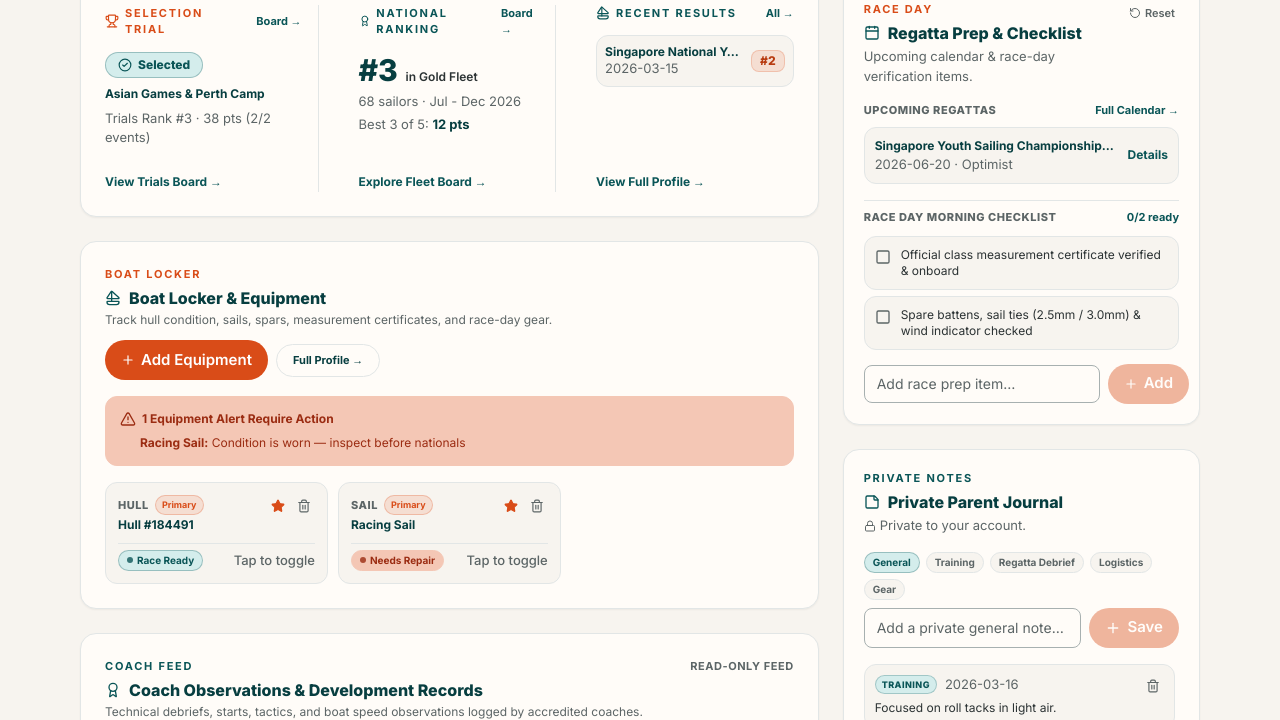
ParentDashboard › supports in-place equipment management and opens preset modal in Card B
This screenshot has width=1280, height=720.
(page scrolled)
Expected: the heading "Boat Locker & Equipment" is shown, [105,288,326,308]
Expected: the text "Hull #184491" is shown, [118,517,194,532]
Click the button "Add Equipment" at {"x": 186, "y": 360}, box [105,340,268,380]
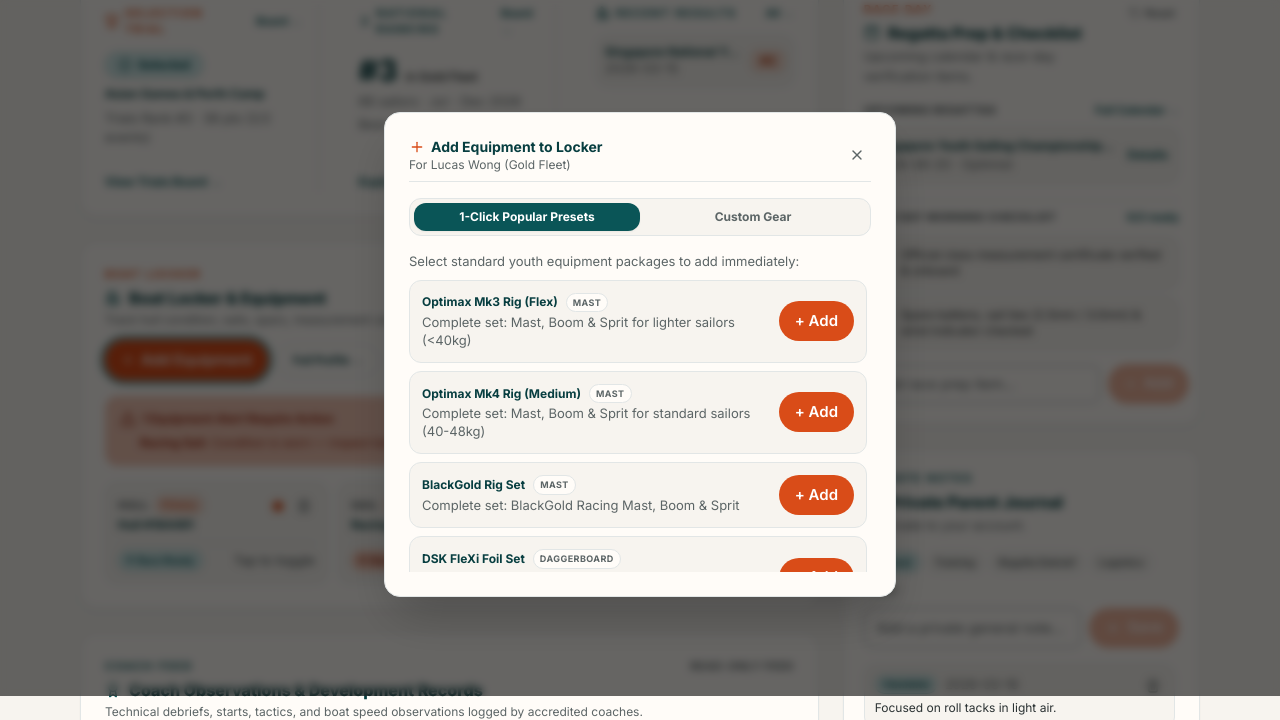
Result: the heading "Add Equipment to Locker" is shown at [409,137,602,157]
Result: the button "1-Click Popular Presets" is shown at [414,203,640,231]
Result: the text "Optimax Mk3 Rig (Flex)" is shown at [422,294,558,310]
Switch to custom tab
Click the button "Custom Gear" at {"x": 753, "y": 217}, box [640,203,866,231]
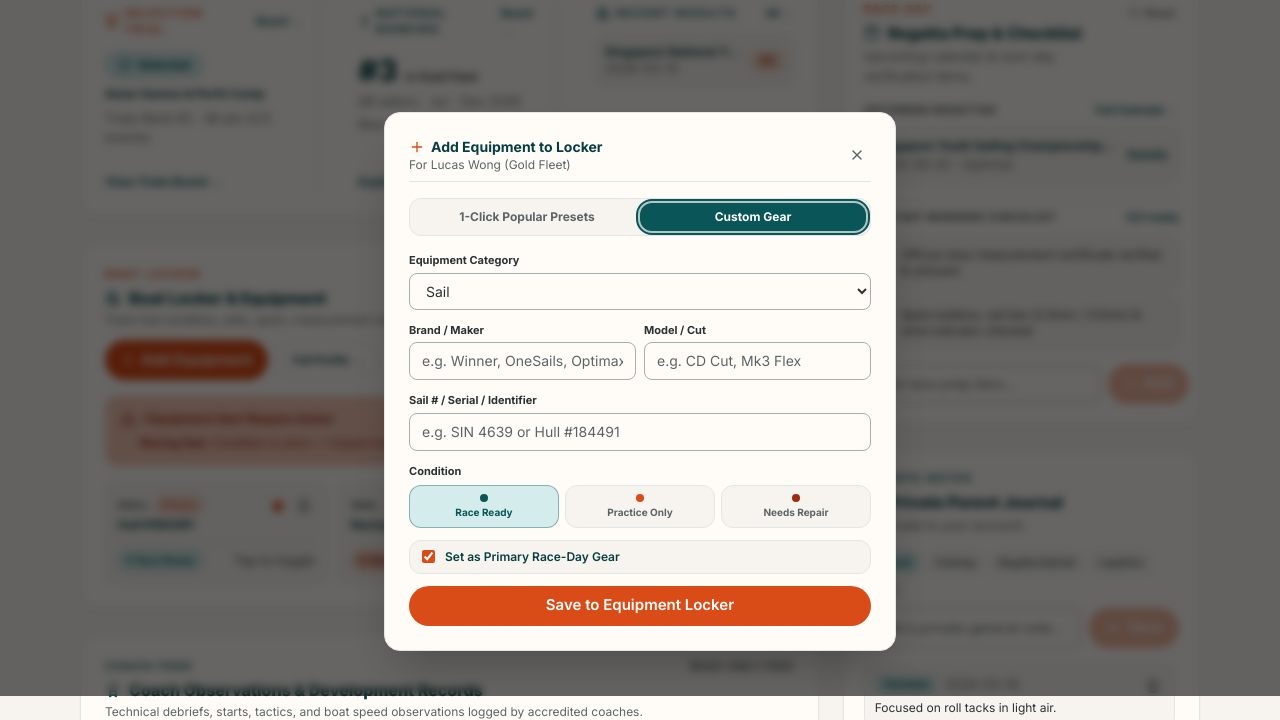
Result: the text "Equipment Category" is shown at [409,253,519,267]
Result: the text "Brand / Maker" is shown at [409,322,484,336]
